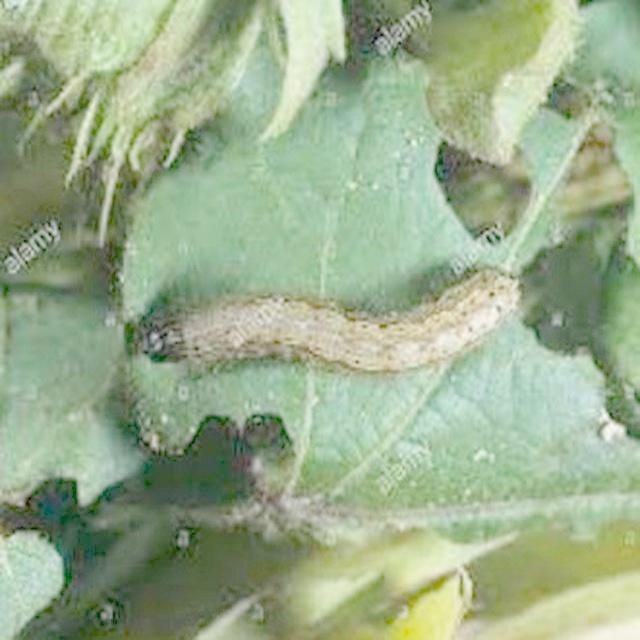gusano_cogollero: (121, 259, 518, 379)
